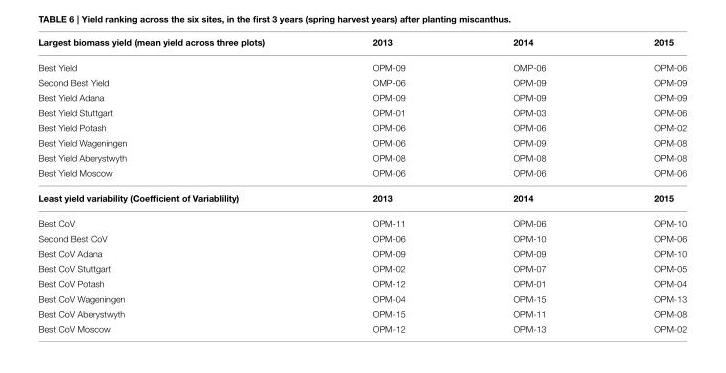table: (37, 37, 686, 333)
table column: (37, 37, 317, 333), (317, 37, 458, 333), (458, 37, 599, 333), (599, 37, 686, 333)
table column header: (37, 37, 686, 54)
table row: (37, 185, 686, 210), (37, 54, 686, 75), (37, 210, 686, 231), (37, 165, 686, 185), (37, 37, 686, 54), (37, 75, 686, 90), (37, 90, 686, 105), (37, 105, 686, 120), (37, 120, 686, 135), (37, 135, 686, 150), (37, 150, 686, 165), (37, 231, 686, 246), (37, 246, 686, 261), (37, 261, 686, 276), (37, 276, 686, 291), (37, 291, 686, 306), (37, 306, 686, 321), (37, 321, 686, 333)
